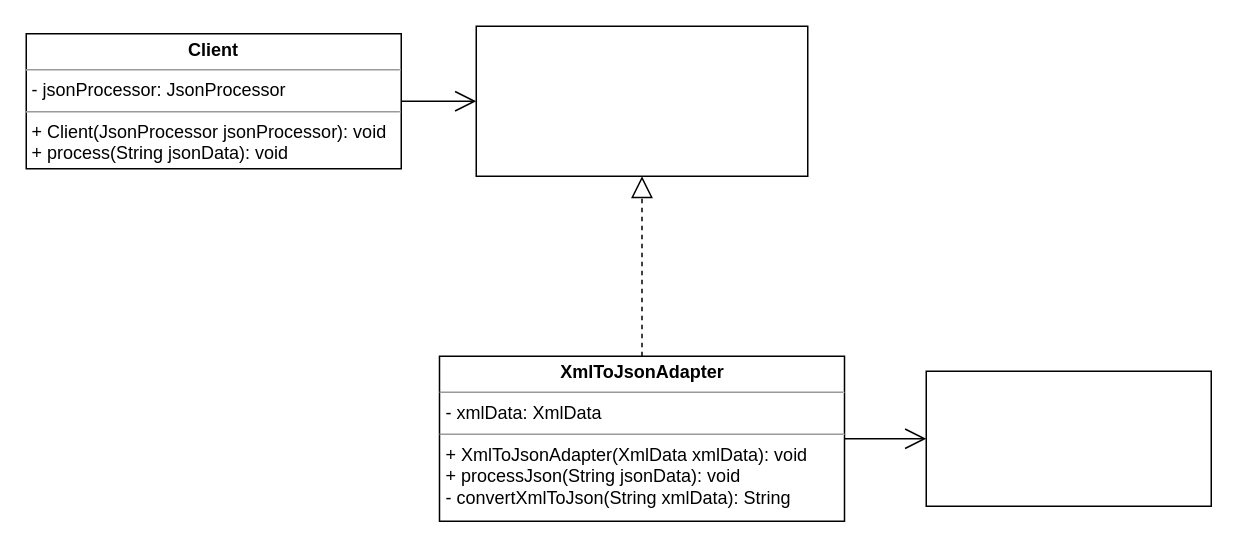
Some shapes in this 1238 by 548 pixel diagram are drawn without their labels. Each missing label, with the centre of its shape:
<<Interface>> JsonProcessor + processJson(String jsonData): void: the point at 641,100
XmlData - xmlData: String + XmlData(String xmlData): void + getXmlData(): String: the point at 1068,438
